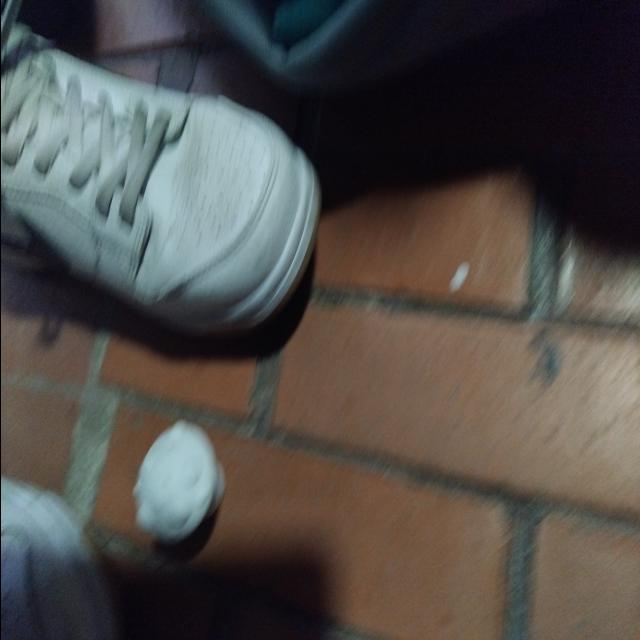Hongo: (130, 408, 226, 556)
